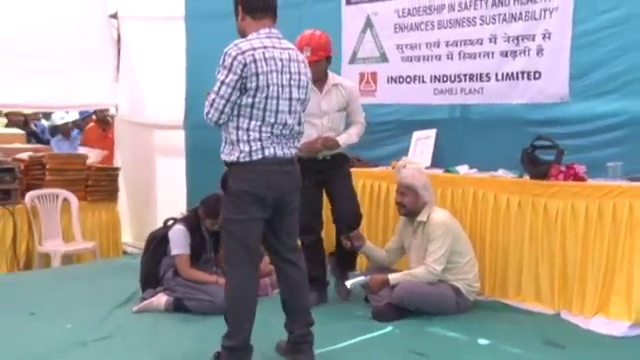helmet: (293, 29, 333, 63), (75, 146, 108, 166), (49, 112, 73, 127)
helmet_off: (387, 169, 433, 225), (232, 0, 279, 40), (193, 195, 229, 237), (4, 112, 25, 129), (93, 109, 112, 127), (28, 111, 43, 125)
helmet_on: (293, 29, 334, 84), (50, 113, 73, 138)
person: (207, 2, 313, 342), (347, 166, 483, 323), (292, 29, 367, 302), (130, 192, 238, 323), (80, 109, 115, 166), (49, 111, 82, 153)
